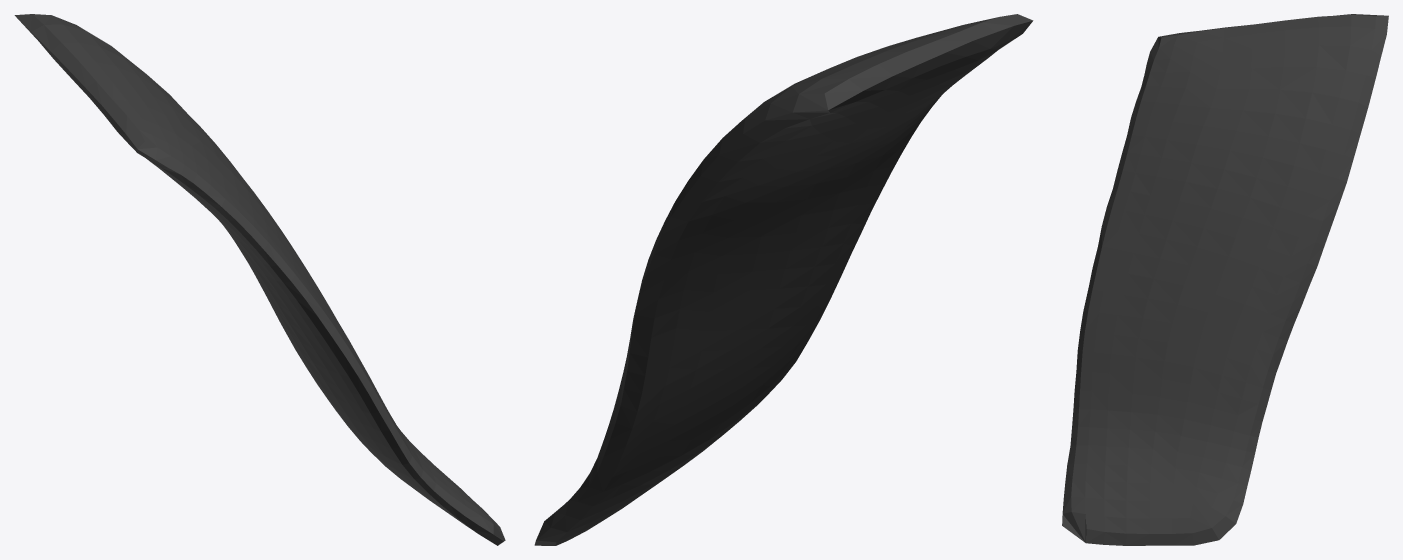
File: Dorsocapular_ligament.glb
3 renders of one model, left to right at view 1: azimuth 30°, elevation 25°; view 2: azimuth 150°, elevation 25°; view 3: azimuth 270°, elevation 25°, orthographic. The views are drawn at different scales.
Visible parts, largest first — view 1: Dorsocapular_ligament; view 2: Dorsocapular_ligament; view 3: Dorsocapular_ligament.
Boxes of the visible parts, x1,y1,x2,y2 form: Dorsocapular_ligament: [14, 14, 505, 545]; Dorsocapular_ligament: [534, 14, 1033, 545]; Dorsocapular_ligament: [1062, 14, 1388, 545].
Bounding box in the file's own units: 25.52 × 35.35 × 25.92.
Materials: 1 (1 with a texture image).
